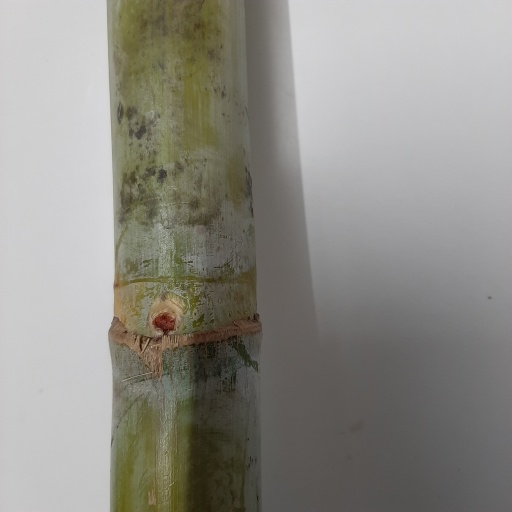Damage_Bud: (148, 302, 178, 338)
